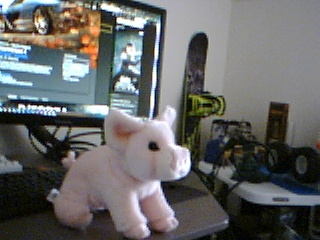piggy: (53, 105, 193, 240)
